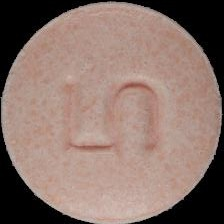68788-6371: (0, 0, 224, 224)
